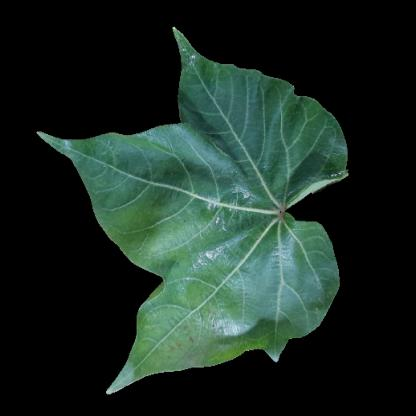curl_stage1: (138, 304, 206, 372), (145, 205, 210, 265), (207, 321, 272, 367)
healthy: (185, 79, 283, 148), (162, 149, 268, 201), (278, 235, 333, 327), (229, 206, 274, 316), (91, 145, 162, 207), (276, 128, 342, 193)
